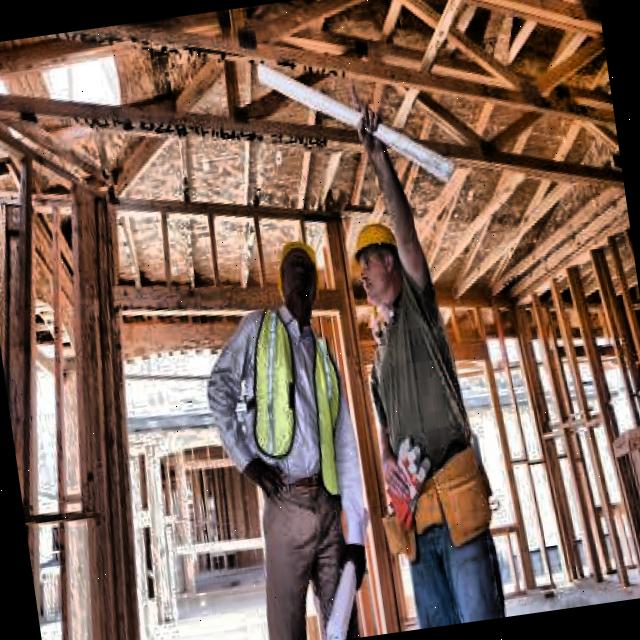helmet: (340, 208, 413, 313), (268, 228, 329, 330)
